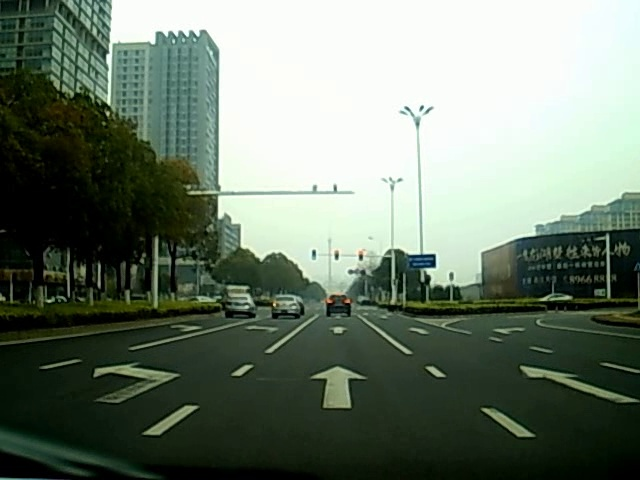Traffic_Light_stop: (357, 250, 365, 263), (334, 249, 340, 261)
